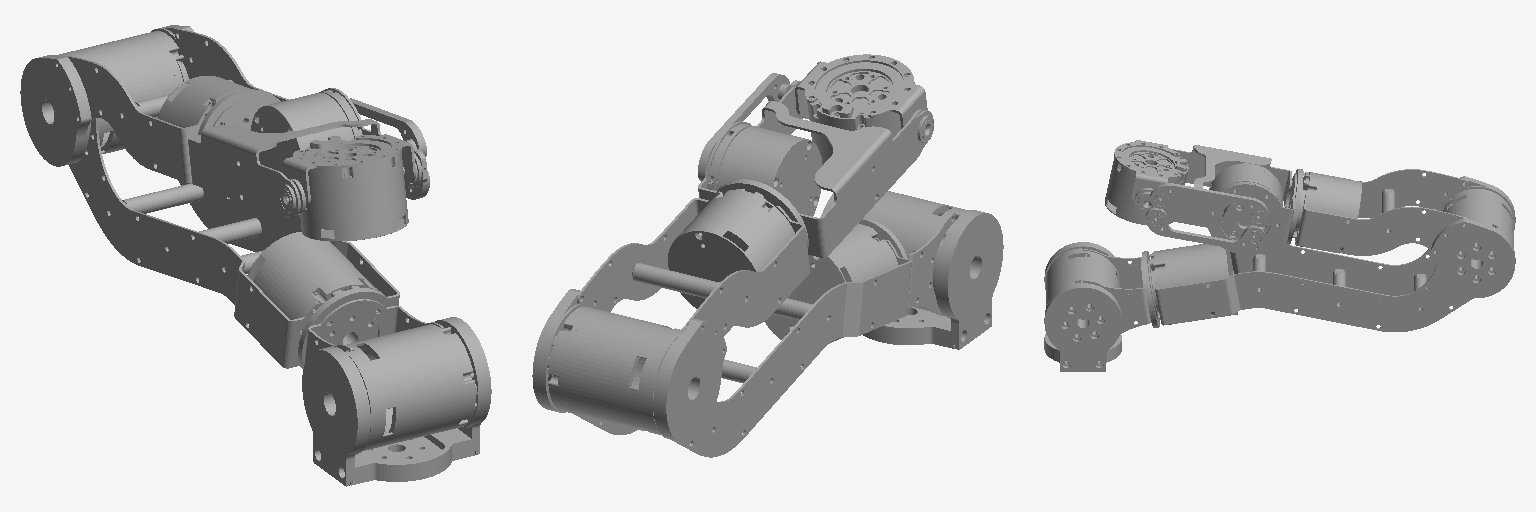
robot.urdf — openarm_grip:
<?xml version="1.0" ?>
<!-- =================================================================================== -->
<!-- |    This document was autogenerated by xacro from openarm_grip.xacro             | -->
<!-- |    EDITING THIS FILE BY HAND IS NOT RECOMMENDED                                 | -->
<!-- =================================================================================== -->
<robot name="openarm_grip">
  <material name="silver">
    <color rgba="0.700 0.700 0.700 1.000"/>
  </material>
  <transmission name="rev1_tran">
    <type>transmission_interface/SimpleTransmission</type>
    <joint name="rev1">
      <hardwareInterface>hardware_interface/EffortJointInterface</hardwareInterface>
    </joint>
    <actuator name="rev1_actr">
      <hardwareInterface>hardware_interface/EffortJointInterface</hardwareInterface>
      <mechanicalReduction>1</mechanicalReduction>
    </actuator>
  </transmission>
  <transmission name="rev2_tran">
    <type>transmission_interface/SimpleTransmission</type>
    <joint name="rev2">
      <hardwareInterface>hardware_interface/EffortJointInterface</hardwareInterface>
    </joint>
    <actuator name="rev2_actr">
      <hardwareInterface>hardware_interface/EffortJointInterface</hardwareInterface>
      <mechanicalReduction>1</mechanicalReduction>
    </actuator>
  </transmission>
  <transmission name="rev3_tran">
    <type>transmission_interface/SimpleTransmission</type>
    <joint name="rev3">
      <hardwareInterface>hardware_interface/EffortJointInterface</hardwareInterface>
    </joint>
    <actuator name="rev3_actr">
      <hardwareInterface>hardware_interface/EffortJointInterface</hardwareInterface>
      <mechanicalReduction>1</mechanicalReduction>
    </actuator>
  </transmission>
  <transmission name="rev4_tran">
    <type>transmission_interface/SimpleTransmission</type>
    <joint name="rev4">
      <hardwareInterface>hardware_interface/EffortJointInterface</hardwareInterface>
    </joint>
    <actuator name="rev4_actr">
      <hardwareInterface>hardware_interface/EffortJointInterface</hardwareInterface>
      <mechanicalReduction>1</mechanicalReduction>
    </actuator>
  </transmission>
  <transmission name="rev5_tran">
    <type>transmission_interface/SimpleTransmission</type>
    <joint name="rev5">
      <hardwareInterface>hardware_interface/EffortJointInterface</hardwareInterface>
    </joint>
    <actuator name="rev5_actr">
      <hardwareInterface>hardware_interface/EffortJointInterface</hardwareInterface>
      <mechanicalReduction>1</mechanicalReduction>
    </actuator>
  </transmission>
  <transmission name="rev6_tran">
    <type>transmission_interface/SimpleTransmission</type>
    <joint name="rev6">
      <hardwareInterface>hardware_interface/EffortJointInterface</hardwareInterface>
    </joint>
    <actuator name="rev6_actr">
      <hardwareInterface>hardware_interface/EffortJointInterface</hardwareInterface>
      <mechanicalReduction>1</mechanicalReduction>
    </actuator>
  </transmission>
  <transmission name="rev7_tran">
    <type>transmission_interface/SimpleTransmission</type>
    <joint name="rev7">
      <hardwareInterface>hardware_interface/EffortJointInterface</hardwareInterface>
    </joint>
    <actuator name="rev7_actr">
      <hardwareInterface>hardware_interface/EffortJointInterface</hardwareInterface>
      <mechanicalReduction>1</mechanicalReduction>
    </actuator>
  </transmission>
  <transmission name="slider_left_tran">
    <type>transmission_interface/SimpleTransmission</type>
    <joint name="slider_left">
      <hardwareInterface>hardware_interface/EffortJointInterface</hardwareInterface>
    </joint>
    <actuator name="slider_left_actr">
      <hardwareInterface>hardware_interface/EffortJointInterface</hardwareInterface>
      <mechanicalReduction>1</mechanicalReduction>
    </actuator>
  </transmission>
  <transmission name="slider_right_tran">
    <type>transmission_interface/SimpleTransmission</type>
    <joint name="slider_right">
      <hardwareInterface>hardware_interface/EffortJointInterface</hardwareInterface>
    </joint>
    <actuator name="slider_right_actr">
      <hardwareInterface>hardware_interface/EffortJointInterface</hardwareInterface>
      <mechanicalReduction>1</mechanicalReduction>
    </actuator>
  </transmission>
  <gazebo>
    <plugin filename="gz_ros2_control-system" name="gz_ros2_control::GazeboSimROS2ControlPlugin"/>
  </gazebo>
  <gazebo reference="base_link">
    <material>Gazebo/Silver</material>
    <mu1>0.2</mu1>
    <mu2>0.2</mu2>
    <self_collide>true</self_collide>
    <gravity>true</gravity>
  </gazebo>
  <gazebo reference="J2_v1_1">
    <material>Gazebo/Silver</material>
    <mu1>0.2</mu1>
    <mu2>0.2</mu2>
    <self_collide>true</self_collide>
  </gazebo>
  <gazebo reference="J3_v1_1">
    <material>Gazebo/Silver</material>
    <mu1>0.2</mu1>
    <mu2>0.2</mu2>
    <self_collide>true</self_collide>
  </gazebo>
  <gazebo reference="J4_v1_1">
    <material>Gazebo/Silver</material>
    <mu1>0.2</mu1>
    <mu2>0.2</mu2>
    <self_collide>true</self_collide>
  </gazebo>
  <gazebo reference="J5_v1_1">
    <material>Gazebo/Silver</material>
    <mu1>0.2</mu1>
    <mu2>0.2</mu2>
    <self_collide>true</self_collide>
  </gazebo>
  <gazebo reference="J6_v1_1">
    <material>Gazebo/Silver</material>
    <mu1>0.2</mu1>
    <mu2>0.2</mu2>
    <self_collide>true</self_collide>
  </gazebo>
  <gazebo reference="J7_v1_1">
    <material>Gazebo/Silver</material>
    <mu1>0.2</mu1>
    <mu2>0.2</mu2>
    <self_collide>true</self_collide>
  </gazebo>
  <gazebo reference="grip_attach_1">
    <material>Gazebo/Silver</material>
    <mu1>0.2</mu1>
    <mu2>0.2</mu2>
    <self_collide>true</self_collide>
  </gazebo>
  <gazebo reference="left_jaw_1">
    <material>Gazebo/Silver</material>
    <mu1>0.2</mu1>
    <mu2>0.2</mu2>
    <self_collide>true</self_collide>
  </gazebo>
  <gazebo reference="right_jaw_1">
    <material>Gazebo/Silver</material>
    <mu1>0.2</mu1>
    <mu2>0.2</mu2>
    <self_collide>true</self_collide>
  </gazebo>
  <link name="world"/>
  <joint name="world_joint" type="fixed">
    <parent link="world"/>
    <child link="base_link"/>
    <origin rpy="0.0 0.0 0.0" xyz="0.0 0.0 0.0"/>
  </joint>
  <link name="base_link">
    <inertial>
      <origin rpy="0 0 0" xyz="1.659663993709495e-08 0.00015470291788827239 -0.03159176823669262"/>
      <mass value="0.9159780860248254"/>
      <inertia ixx="0.000802" ixy="-0.0" ixz="0.0" iyy="0.000799" iyz="-0.0" izz="0.001037"/>
    </inertial>
    <visual>
      <origin rpy="0 0 0" xyz="0 0 0"/>
      <geometry>
        <mesh filename="./meshes/base_link.stl" scale="0.001 0.001 0.001"/>
      </geometry>
      <material name="silver"/>
    </visual>
    <collision>
      <origin rpy="0 0 0" xyz="0 0 0"/>
      <geometry>
        <mesh filename="./meshes/base_link.stl" scale="0.001 0.001 0.001"/>
      </geometry>
    </collision>
  </link>
  <link name="J2_v1_1">
    <inertial>
      <origin rpy="0 0 0" xyz="0.002300730781673588 -0.00021691236314287158 0.02760602616888808"/>
      <mass value="0.49220952328993495"/>
      <inertia ixx="0.000316" ixy="0.0" ixz="-2.2e-05" iyy="0.000717" iyz="-3e-06" izz="0.00059"/>
    </inertial>
    <visual>
      <origin rpy="0 0 0" xyz="-0.0 -0.0 0.00225"/>
      <geometry>
        <mesh filename="./meshes/J2_v1_1.stl" scale="0.001 0.001 0.001"/>
      </geometry>
      <material name="silver"/>
    </visual>
    <collision>
      <origin rpy="0 0 0" xyz="-0.0 -0.0 0.00225"/>
      <geometry>
        <mesh filename="./meshes/J2_v1_1.stl" scale="0.001 0.001 0.001"/>
      </geometry>
    </collision>
  </link>
  <link name="J3_v1_1">
    <inertial>
      <origin rpy="0 0 0" xyz="-0.029725947365562236 0.014084733811091961 0.002458883521108013"/>
      <mass value="0.6372830939810512"/>
      <inertia ixx="0.000647" ixy="4e-06" ixz="2e-06" iyy="0.000437" iyz="-5.2e-05" izz="0.00075"/>
    </inertial>
    <visual>
      <origin rpy="0 0 0" xyz="-0.02975 0.0 -0.0425"/>
      <geometry>
        <mesh filename="./meshes/J3_v1_1.stl" scale="0.001 0.001 0.001"/>
      </geometry>
      <material name="silver"/>
    </visual>
    <collision>
      <origin rpy="0 0 0" xyz="-0.02975 0.0 -0.0425"/>
      <geometry>
        <mesh filename="./meshes/J3_v1_1.stl" scale="0.001 0.001 0.001"/>
      </geometry>
    </collision>
  </link>
  <link name="J4_v1_1">
    <inertial>
      <origin rpy="0 0 0" xyz="8.405076184644401e-05 0.1358717615053826 0.018429965102241944"/>
      <mass value="1.1025467379280594"/>
      <inertia ixx="0.011905" ixy="-1e-06" ixz="-4e-06" iyy="0.00114" iyz="-0.001657" izz="0.011791"/>
    </inertial>
    <visual>
      <origin rpy="0 0 0" xyz="0.0 -0.06041 -0.052607"/>
      <geometry>
        <mesh filename="./meshes/J4_v1_1.stl" scale="0.001 0.001 0.001"/>
      </geometry>
      <material name="silver"/>
    </visual>
    <collision>
      <origin rpy="0 0 0" xyz="0.0 -0.06041 -0.052607"/>
      <geometry>
        <mesh filename="./meshes/J4_v1_1.stl" scale="0.001 0.001 0.001"/>
      </geometry>
    </collision>
  </link>
  <link name="J5_v1_1">
    <inertial>
      <origin rpy="0 0 0" xyz="-0.028086778609557873 -0.06237848032279486 0.015103464347573828"/>
      <mass value="0.7296865736952145"/>
      <inertia ixx="0.002473" ixy="-7e-05" ixz="1.8e-05" iyy="0.000853" iyz="0.00038" izz="0.002847"/>
    </inertial>
    <visual>
      <origin rpy="0 0 0" xyz="-0.029755 -0.298846 -0.0925"/>
      <geometry>
        <mesh filename="./meshes/J5_v1_1.stl" scale="0.001 0.001 0.001"/>
      </geometry>
      <material name="silver"/>
    </visual>
    <collision>
      <origin rpy="0 0 0" xyz="-0.029755 -0.298846 -0.0925"/>
      <geometry>
        <mesh filename="./meshes/J5_v1_1.stl" scale="0.001 0.001 0.001"/>
      </geometry>
    </collision>
  </link>
  <link name="J6_v1_1">
    <inertial>
      <origin rpy="0 0 0" xyz="0.016428123043712856 -0.04271549352047854 0.009023923091251038"/>
      <mass value="1.0339114396114095"/>
      <inertia ixx="0.000881" ixy="0.000136" ixz="-1.1e-05" iyy="0.000614" iyz="0.000102" izz="0.001054"/>
    </inertial>
    <visual>
      <origin rpy="0 0 0" xyz="0.0 -0.167496 -0.118765"/>
      <geometry>
        <mesh filename="./meshes/J6_v1_1.stl" scale="0.001 0.001 0.001"/>
      </geometry>
      <material name="silver"/>
    </visual>
    <collision>
      <origin rpy="0 0 0" xyz="0.0 -0.167496 -0.118765"/>
      <geometry>
        <mesh filename="./meshes/J6_v1_1.stl" scale="0.001 0.001 0.001"/>
      </geometry>
    </collision>
  </link>
  <link name="J7_v1_1">
    <inertial>
      <origin rpy="0 0 0" xyz="-0.03510690863628159 0.0004066264284608781 0.001093657345024951"/>
      <mass value="0.33288025570396623"/>
      <inertia ixx="0.00014" ixy="-0.0" ixz="2e-06" iyy="0.000179" iyz="7e-06" izz="0.000207"/>
    </inertial>
    <visual>
      <origin rpy="0 0 0" xyz="-0.0355 -0.048796 -0.1425"/>
      <geometry>
        <mesh filename="./meshes/J7_v1_1.stl" scale="0.001 0.001 0.001"/>
      </geometry>
      <material name="silver"/>
    </visual>
    <collision>
      <origin rpy="0 0 0" xyz="-0.0355 -0.048796 -0.1425"/>
      <geometry>
        <mesh filename="./meshes/J7_v1_1.stl" scale="0.001 0.001 0.001"/>
      </geometry>
    </collision>
  </link>
  <link name="grip_attach_1">
    <inertial>
      <origin rpy="0 0 0" xyz="-3.544262443517109e-05 -0.08091067772872827 0.004061313352520662"/>
      <mass value="0.8188472642682024"/>
      <inertia ixx="0.001113" ixy="1e-06" ixz="2e-06" iyy="0.00061" iyz="-2.2e-05" izz="0.001556"/>
    </inertial>
    <visual>
      <origin rpy="0 0 0" xyz="0.0 -0.051826 -0.15765"/>
      <geometry>
        <mesh filename="./meshes/grip_attach_1.stl" scale="0.001 0.001 0.001"/>
      </geometry>
      <material name="silver"/>
    </visual>
    <collision>
      <origin rpy="0 0 0" xyz="0.0 -0.051826 -0.15765"/>
      <geometry>
        <mesh filename="./meshes/grip_attach_1.stl" scale="0.001 0.001 0.001"/>
      </geometry>
    </collision>
  </link>
  <link name="left_jaw_1">
    <inertial>
      <origin rpy="0 0 0" xyz="0.01737096632831872 -0.017398412728963003 0.004062150876211923"/>
      <mass value="0.2869555939898112"/>
      <inertia ixx="0.000209" ixy="1.6e-05" ixz="-4e-06" iyy="9.7e-05" iyz="3e-06" izz="0.000185"/>
    </inertial>
    <visual>
      <origin rpy="0 0 0" xyz="0.0775 0.069829 -0.169736"/>
      <geometry>
        <mesh filename="./meshes/left_jaw_1.stl" scale="0.001 0.001 0.001"/>
      </geometry>
      <material name="silver"/>
    </visual>
    <collision>
      <origin rpy="0 0 0" xyz="0.0775 0.069829 -0.169736"/>
      <geometry>
        <mesh filename="./meshes/left_jaw_1.stl" scale="0.001 0.001 0.001"/>
      </geometry>
    </collision>
  </link>
  <link name="right_jaw_1">
    <inertial>
      <origin rpy="0 0 0" xyz="-0.0173972747583793 -0.018685385724924758 -0.0017497641003002828"/>
      <mass value="0.285094009790996"/>
      <inertia ixx="0.000211" ixy="-1.6e-05" ixz="4e-06" iyy="0.000115" iyz="3.9e-05" izz="0.000169"/>
    </inertial>
    <visual>
      <origin rpy="0 0 0" xyz="-0.0775 0.069829 -0.169736"/>
      <geometry>
        <mesh filename="./meshes/right_jaw_1.stl" scale="0.001 0.001 0.001"/>
      </geometry>
      <material name="silver"/>
    </visual>
    <collision>
      <origin rpy="0 0 0" xyz="-0.0775 0.069829 -0.169736"/>
      <geometry>
        <mesh filename="./meshes/right_jaw_1.stl" scale="0.001 0.001 0.001"/>
      </geometry>
    </collision>
  </link>
  <joint name="rev1" type="revolute">
    <origin rpy="0 0 0" xyz="0.0 0.0 -0.00225"/>
    <parent link="base_link"/>
    <child link="J2_v1_1"/>
    <axis xyz="0.0 0.0 1.0"/>
    <limit acceleration="0.5" effort="100" lower="-2.356194" upper="2.356194" velocity="1.0"/>
    <dynamics damping="1.0" friction="1.0"/>
  </joint>
  <joint name="rev2" type="revolute">
    <origin rpy="0 0 0" xyz="0.02975 -0.0 0.04475"/>
    <parent link="J2_v1_1"/>
    <child link="J3_v1_1"/>
    <axis xyz="-1.0 -0.0 0.0"/>
    <limit acceleration="0.5" effort="100" lower="-3.054326" upper="0.0" velocity="1.0"/>
    <dynamics damping="1.0" friction="1.0"/>
  </joint>
  <joint name="rev3" type="revolute">
    <origin rpy="0 0 0" xyz="-0.02975 0.06041 0.010107"/>
    <parent link="J3_v1_1"/>
    <child link="J4_v1_1"/>
    <axis xyz="-0.0 0.986291 0.165017"/>
    <limit acceleration="0.5" effort="100" lower="-2.094395" upper="2.094395" velocity="1.0"/>
    <dynamics damping="1.0" friction="1.0"/>
  </joint>
  <joint name="rev4" type="revolute">
    <origin rpy="0 0 0" xyz="0.029755 0.238436 0.039893"/>
    <parent link="J4_v1_1"/>
    <child link="J5_v1_1"/>
    <axis xyz="1.0 0.0 0.0"/>
    <limit acceleration="0.5" effort="100" lower="-3.141593" upper="0.0" velocity="1.0"/>
    <dynamics damping="1.0" friction="1.0"/>
  </joint>
  <joint name="rev5" type="revolute">
    <origin rpy="0 0 0" xyz="-0.029755 -0.13135 0.026265"/>
    <parent link="J5_v1_1"/>
    <child link="J6_v1_1"/>
    <axis xyz="0.0 -0.980588 0.196078"/>
    <limit acceleration="0.5" effort="100" lower="-2.094395" upper="2.094395" velocity="1.0"/>
    <dynamics damping="1.0" friction="1.0"/>
  </joint>
  <joint name="rev6" type="revolute">
    <origin rpy="0 0 0" xyz="0.0355 -0.1187 0.023735"/>
    <parent link="J6_v1_1"/>
    <child link="J7_v1_1"/>
    <axis xyz="-1.0 0.0 -0.0"/>
    <limit acceleration="0.5" effort="100" lower="-1.570796" upper="1.570796" velocity="1.0"/>
    <dynamics damping="1.0" friction="1.0"/>
  </joint>
  <joint name="rev7" type="continuous">
    <origin rpy="0 0 0" xyz="-0.0355 0.00303 0.01515"/>
    <parent link="J7_v1_1"/>
    <child link="grip_attach_1"/>
    <axis xyz="0.0 0.196078 0.980588"/>
    <dynamics damping="1.0" friction="1.0"/>
  </joint>
  <joint name="slider_left" type="prismatic">
    <origin rpy="0 0 0" xyz="-0.0775 -0.121655 0.012086"/>
    <parent link="grip_attach_1"/>
    <child link="left_jaw_1"/>
    <axis xyz="-1.0 0.0 -0.0"/>
    <limit acceleration="0.5" effort="100" lower="-0.0455" upper="0.0" velocity="1.0"/>
    <dynamics damping="1.0" friction="1.0"/>
  </joint>
  <joint name="slider_right" type="prismatic">
    <origin rpy="0 0 0" xyz="0.0775 -0.121655 0.012086"/>
    <parent link="grip_attach_1"/>
    <child link="right_jaw_1"/>
    <axis xyz="1.0 -0.0 0.0"/>
    <limit acceleration="0.5" effort="100" lower="-0.0455" upper="0.0" velocity="1.0"/>
    <dynamics damping="1.0" friction="1.0"/>
    <mimic joint="slider_left"/>
  </joint>
</robot>

--- Facts derived from the render (not from the file) ---
The picture shows the robot from 3 angles, left to right: view 1: azimuth 30°, elevation 25°; view 2: azimuth 150°, elevation 25°; view 3: azimuth 270°, elevation 25°; orthographic projection.
Model openarm_grip with 11 links and 10 joints (6 revolute, 1 continuous, 2 prismatic, 1 fixed), rooted at world, posed every joint at zero.
Links seen in each view (by area): view 1: J4_v1_1, J5_v1_1, J3_v1_1, J6_v1_1, J2_v1_1, J7_v1_1; view 2: J4_v1_1, J5_v1_1, J6_v1_1, J2_v1_1, J7_v1_1, J3_v1_1; view 3: J4_v1_1, J5_v1_1, J6_v1_1, J2_v1_1, J3_v1_1, J7_v1_1.
Boxes of the visible links, x1,y1,x2,y2 form: J4_v1_1: [55, 31, 399, 368]; J5_v1_1: [20, 25, 288, 182]; J3_v1_1: [298, 288, 477, 450]; J6_v1_1: [188, 88, 429, 217]; J2_v1_1: [302, 317, 491, 486]; J7_v1_1: [281, 134, 416, 241]; J4_v1_1: [547, 223, 911, 457]; J5_v1_1: [532, 189, 809, 441]; J6_v1_1: [698, 73, 933, 257]; J2_v1_1: [821, 193, 1003, 349]; J7_v1_1: [795, 54, 931, 168]; J3_v1_1: [859, 191, 968, 315]; J4_v1_1: [1150, 189, 1513, 331]; J5_v1_1: [1295, 169, 1515, 297]; J6_v1_1: [1135, 145, 1305, 254]; J2_v1_1: [1044, 242, 1121, 371]; J3_v1_1: [1046, 248, 1159, 333]; J7_v1_1: [1105, 140, 1188, 225].
Size in the robot's own frame: 0.0888 by 0.3578 by 0.1681 metres.
Meshes: 10 distinct files referenced, 6 mesh visuals loaded (6 binary STL); not drawn: 4 (reference not matched to a file when rendering).